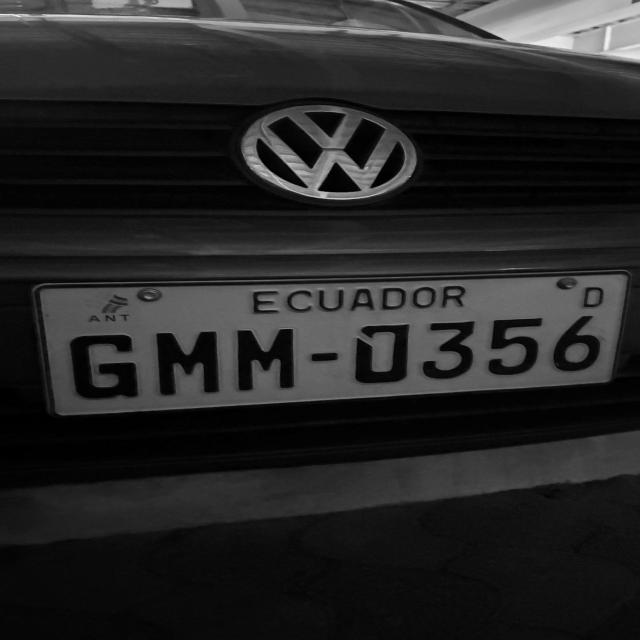Placa: (35, 272, 628, 415)
